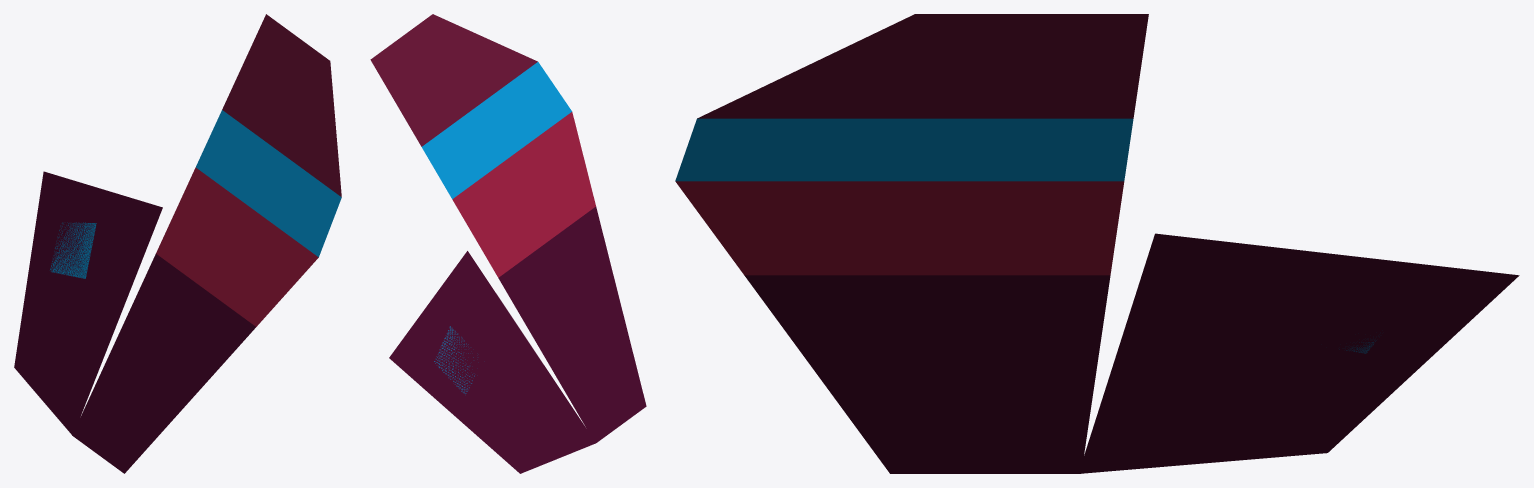
The model's file is wing_r.glb.
3 renders of one model, left to right at view 1: azimuth 30°, elevation 25°; view 2: azimuth 150°, elevation 25°; view 3: azimuth 270°, elevation 25°, orthographic. The views are drawn at different scales.
Visible parts, largest first — view 1: wing_r; view 2: wing_r; view 3: wing_r.
Boxes of the visible parts, x1,y1,x2,y2 form: wing_r: (14,14,341,473); wing_r: (370,14,646,473); wing_r: (675,14,1519,473).
Bounding box in the file's own units: 0.4663 × 0.7463 × 0.88.
